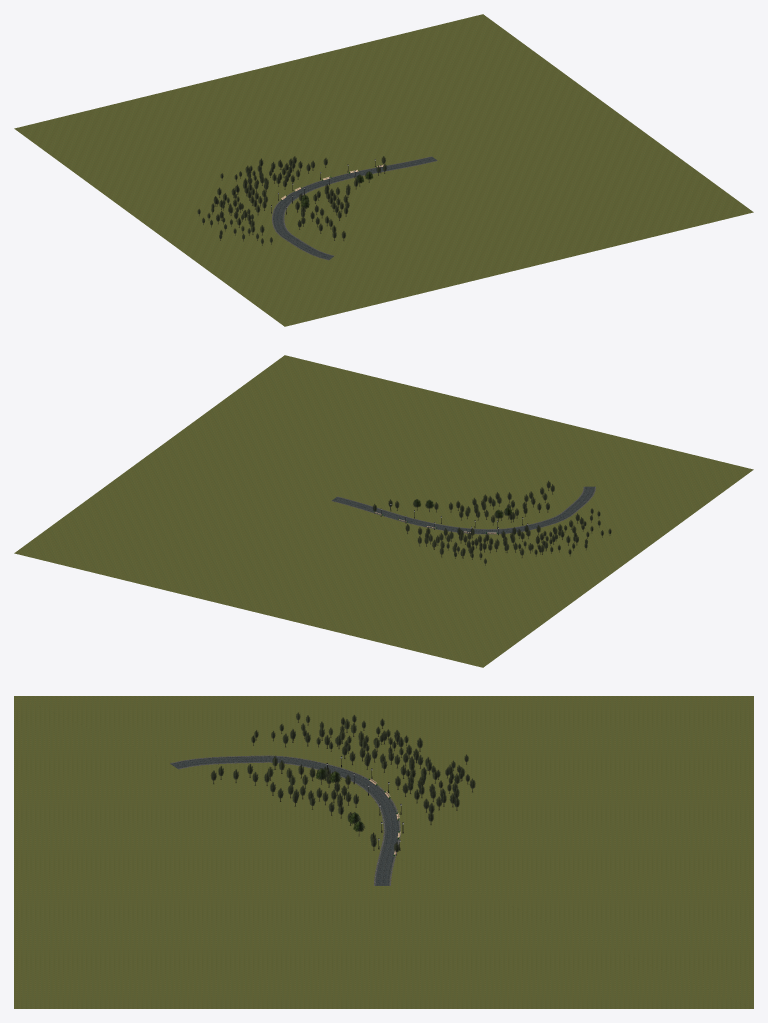
The picture shows the model from 3 angles, top to bottom: view 1: azimuth 30°, elevation 25°; view 2: azimuth 150°, elevation 25°; view 3: azimuth 270°, elevation 25°; orthographic projection. The views are drawn at different scales.
Parts seen in each view (by area): view 1: Plane.001, Plane; view 2: Plane.001, Plane; view 3: Plane.001, Plane.
Boxes of the visible parts, x1,y1,x2,y2 form: Plane.001: (14,14,753,326); Plane: (272,156,437,260); Plane.001: (14,355,753,667); Plane: (331,486,595,534); Plane.001: (14,696,753,1008); Plane: (170,755,400,885).
Bounding box in the file's own units: 225 × 5.83 × 225.
11 materials, 6 textured.
